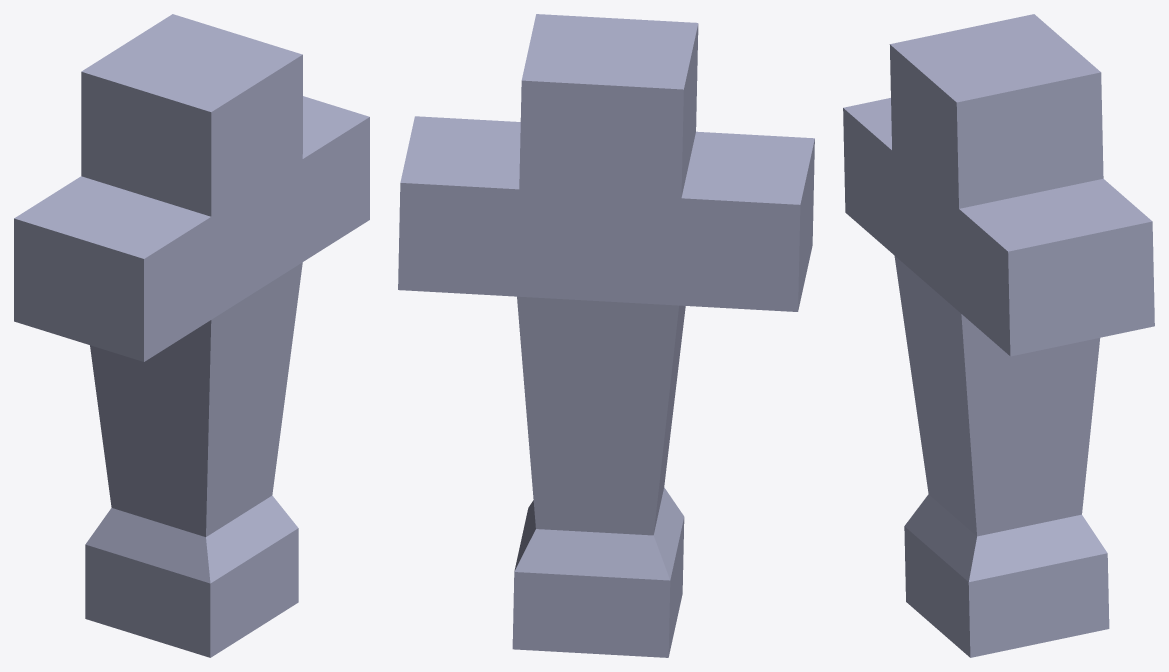
The model's file is cross.glb.
3 renders of one model, left to right at view 1: azimuth 30°, elevation 25°; view 2: azimuth 150°, elevation 25°; view 3: azimuth 270°, elevation 25°, orthographic. The views are drawn at different scales.
Visible parts, largest first — view 1: Cross; view 2: Cross; view 3: Cross.
Boxes of the visible parts, bbox=[...] form: Cross: bbox=[14, 14, 369, 657]; Cross: bbox=[398, 14, 814, 657]; Cross: bbox=[843, 14, 1154, 657].
Size of the model in its own units: 2.02 by 2.94 by 1.49.
